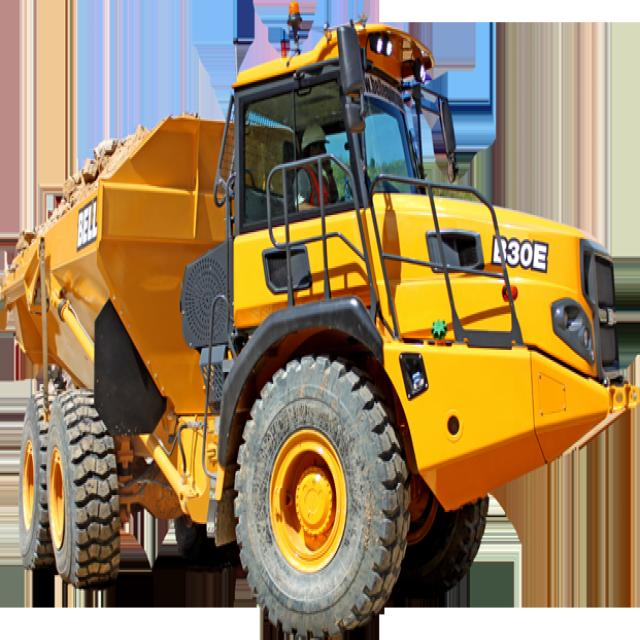dump_truck: (8, 24, 628, 613)
